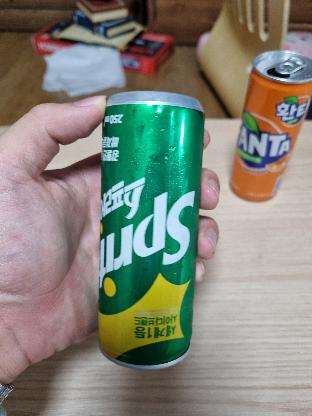Can: (94, 90, 209, 374)
